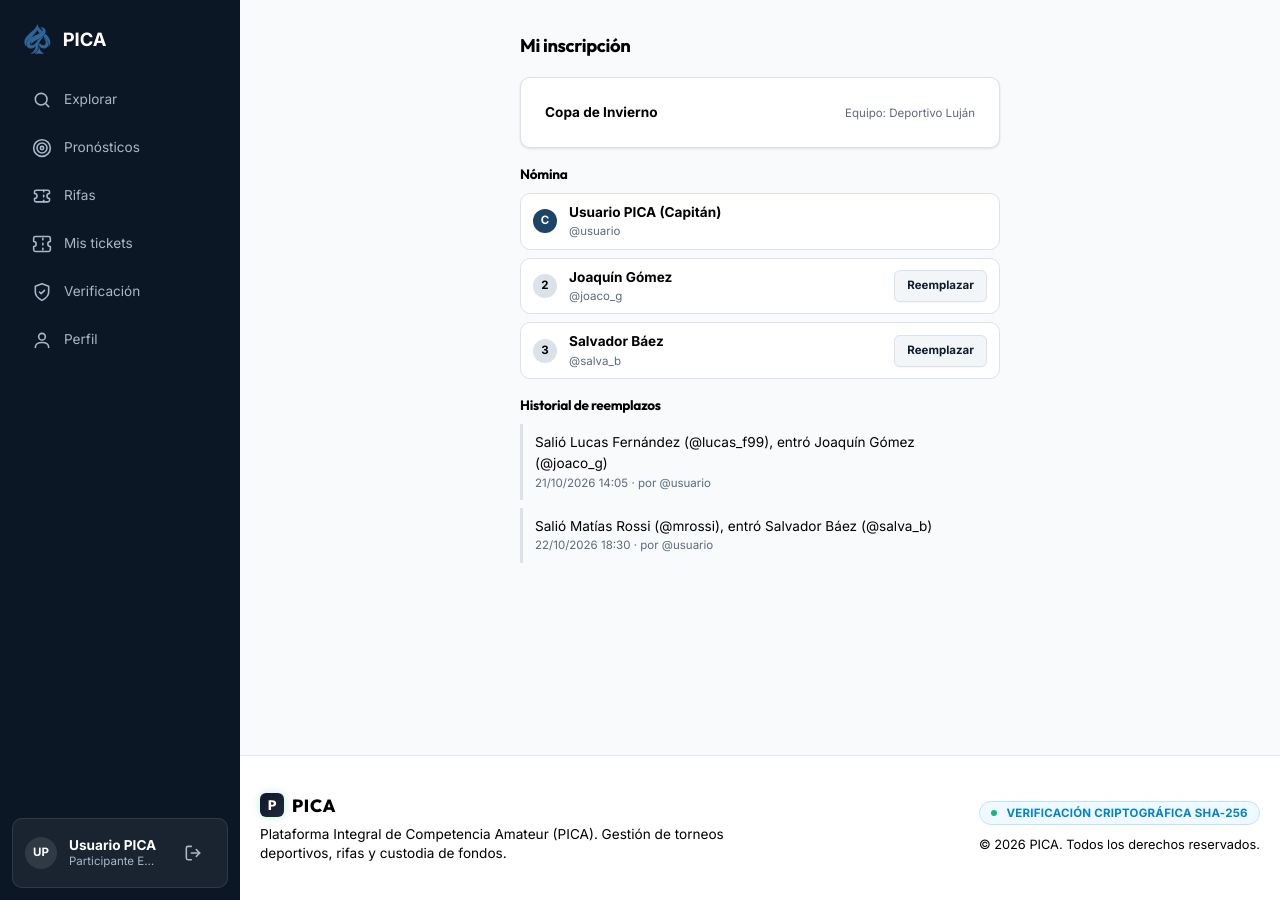
Test case: reemplazar un jugador › confirma quién sale y quién entra, y deja la nómina, el historial y un aviso actualizados
Click the button with aria-label "Reemplazar a Joaquín Gómez" at x=941, y=286, box 894,270 -> 987,302
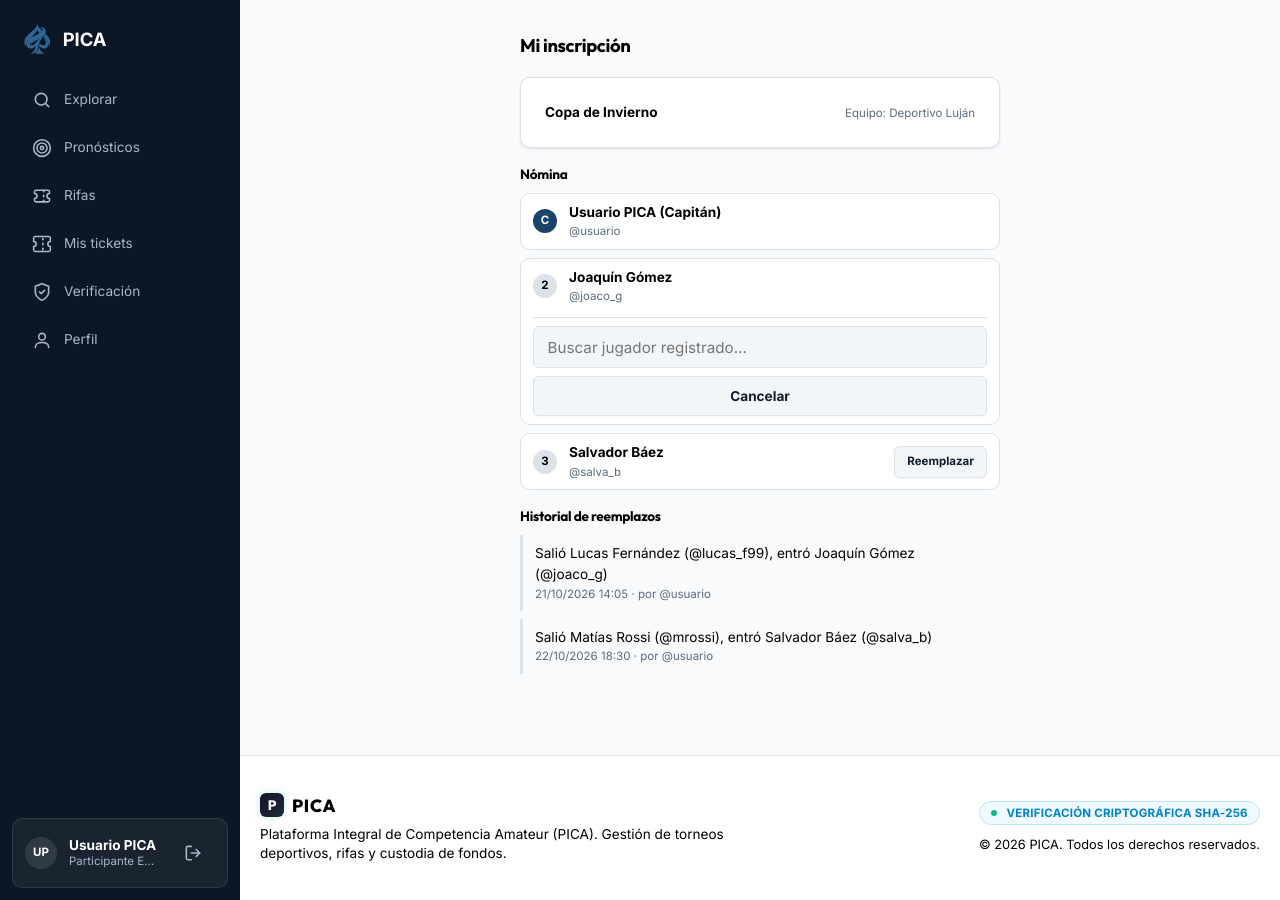
Type "lucas" into the search field labelled "Buscar jugador" at x=760, y=348, box 533,326 -> 987,368
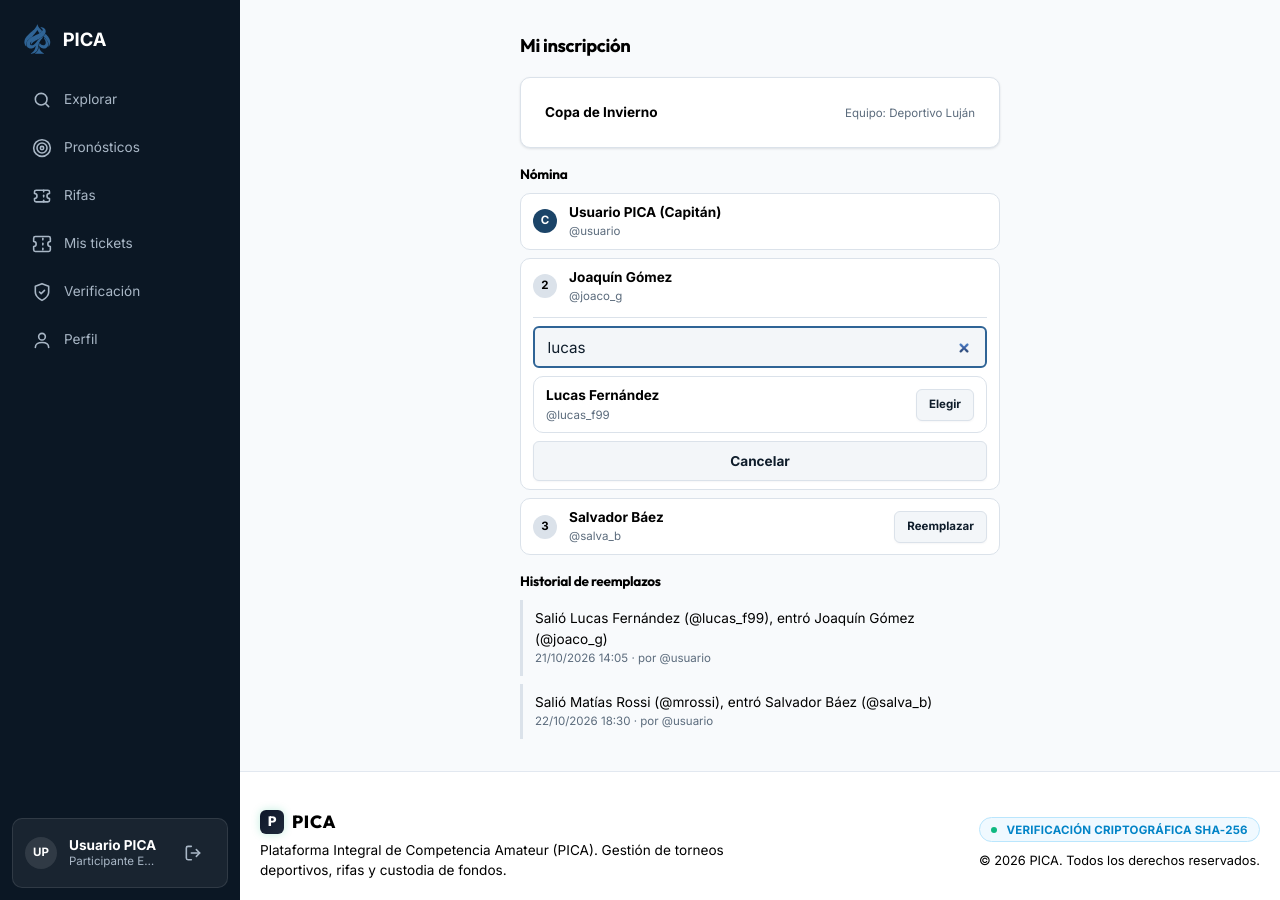
Click the button with aria-label "Elegir a Lucas Fernández" at x=945, y=405, box 916,389 -> 974,421
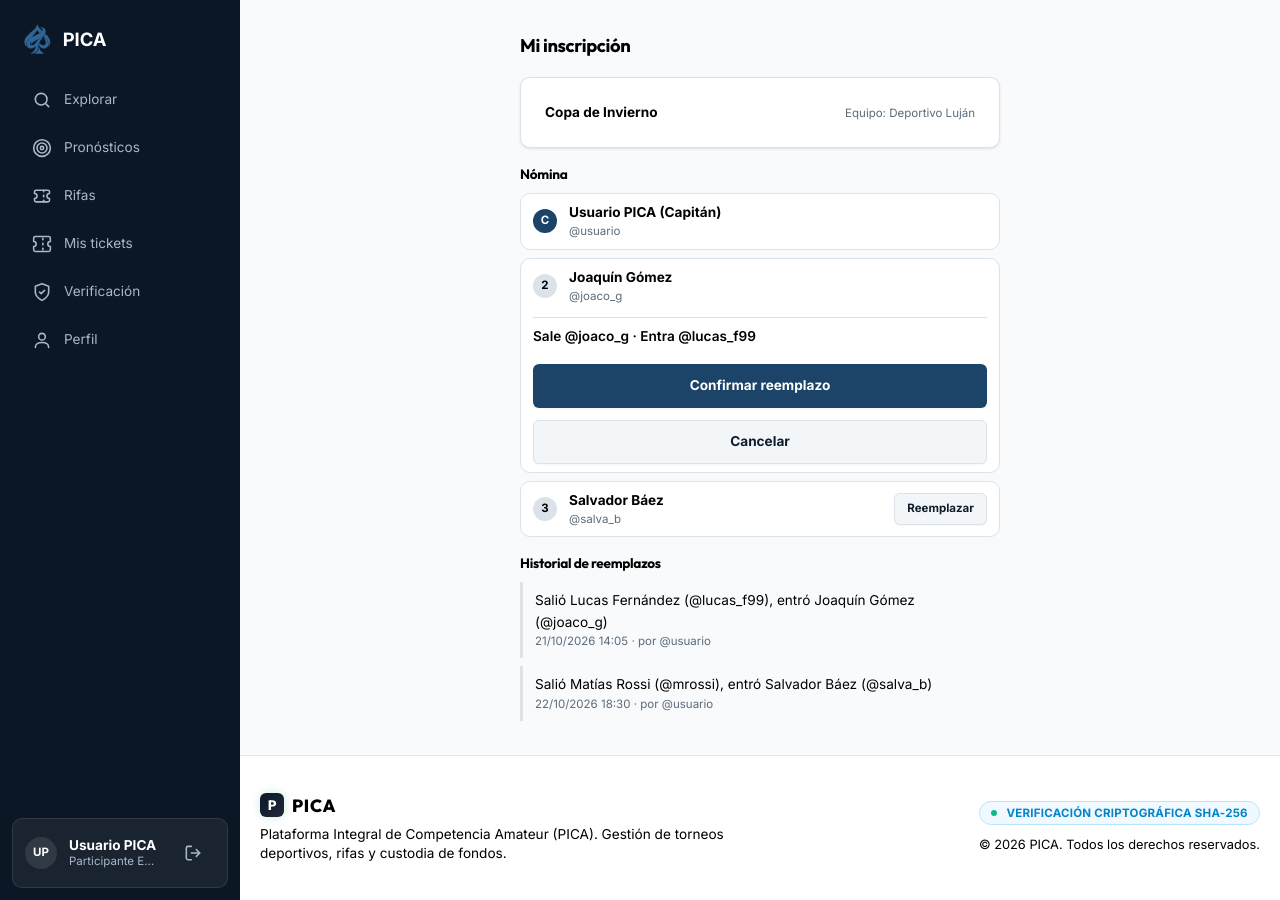
Expected: the text "Sale @joaco_g · Entra @lucas_f99" is shown, 533,328 -> 756,344
Click the button "Confirmar reemplazo" at x=760, y=386, box 533,364 -> 987,408
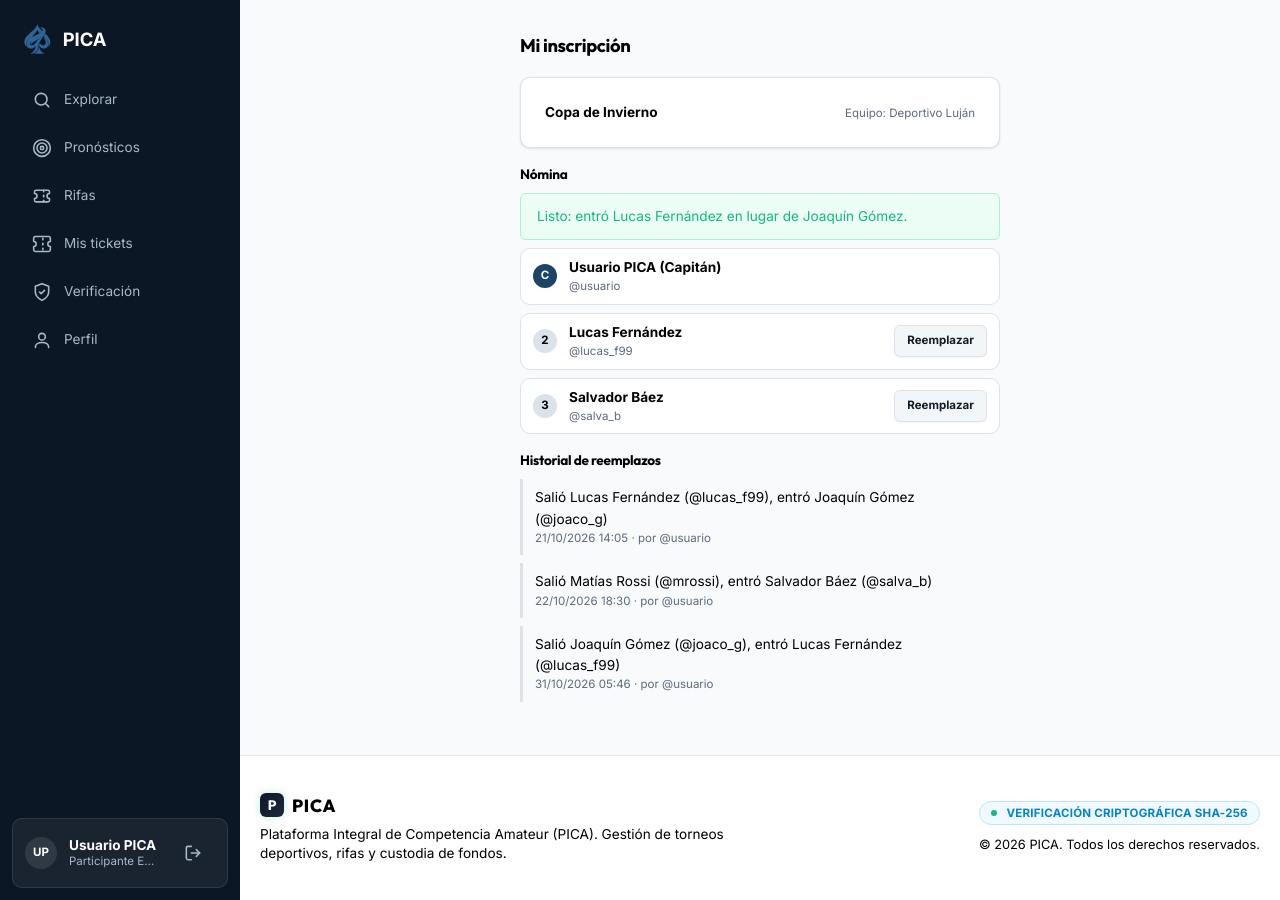
Expected: the text "Listo: entró Lucas Fernández en lugar de Joaquín Gómez." is shown, 520,193 -> 1000,240
Expected: the text "Lucas Fernández" is shown, 569,324 -> 682,340
Expected: the 6th list item shows "Salió Joaquín Gómez (@joaco_g), entró Lucas Fernández (@lucas_f99)", 520,626 -> 1000,702
